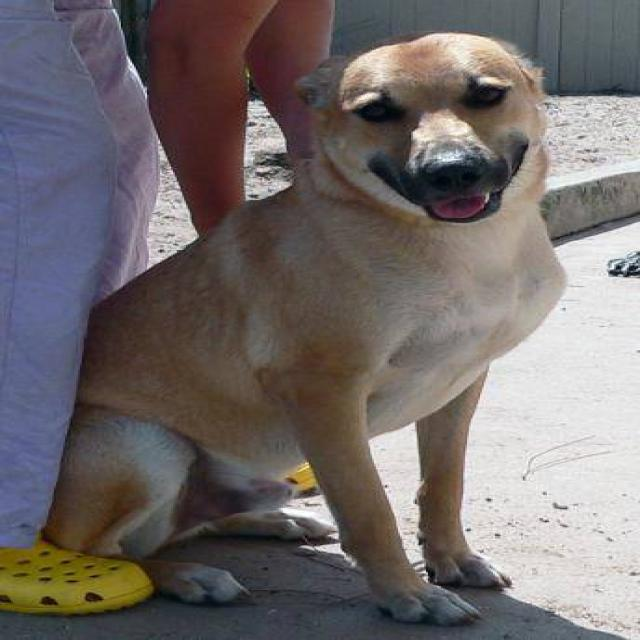dog: (39, 31, 568, 627)
